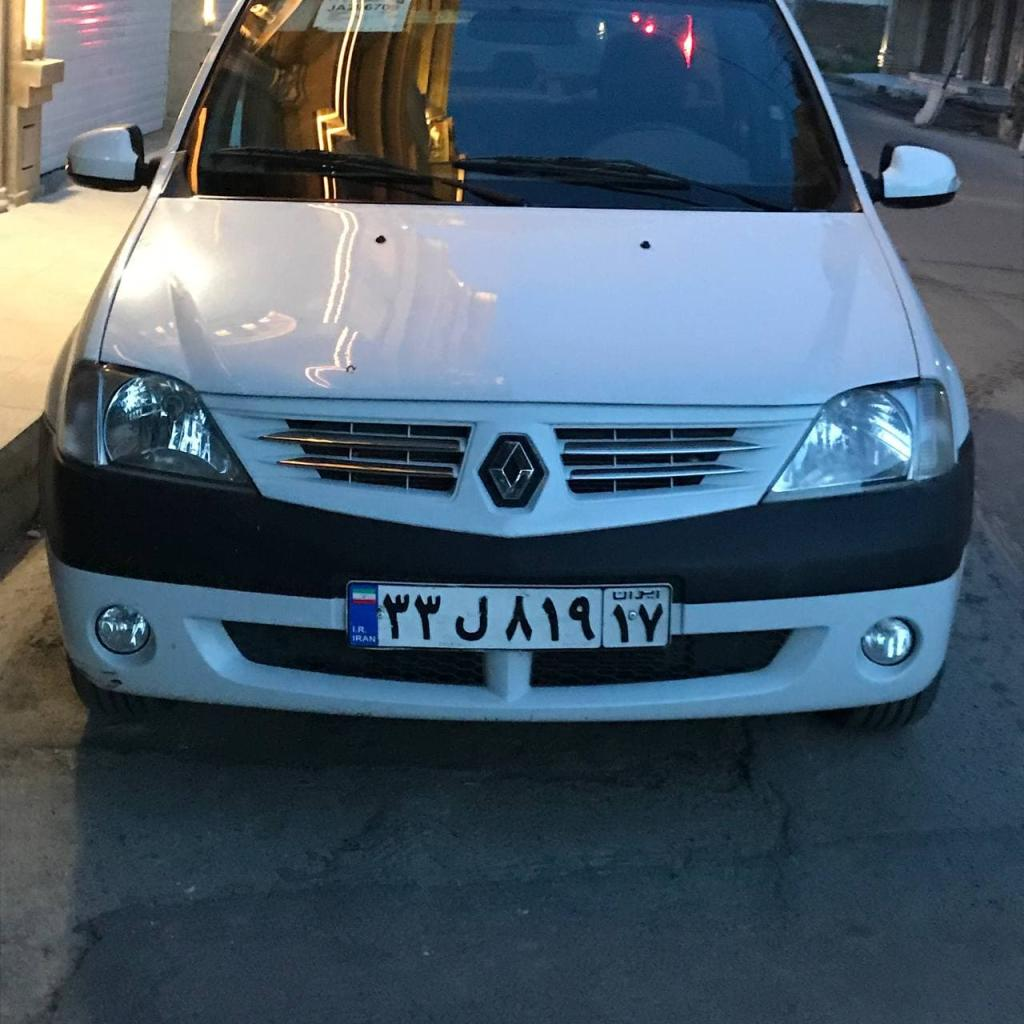Plates: (349, 582, 669, 647)
